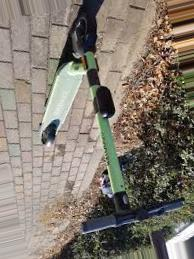scooter: (40, 1, 184, 235)
